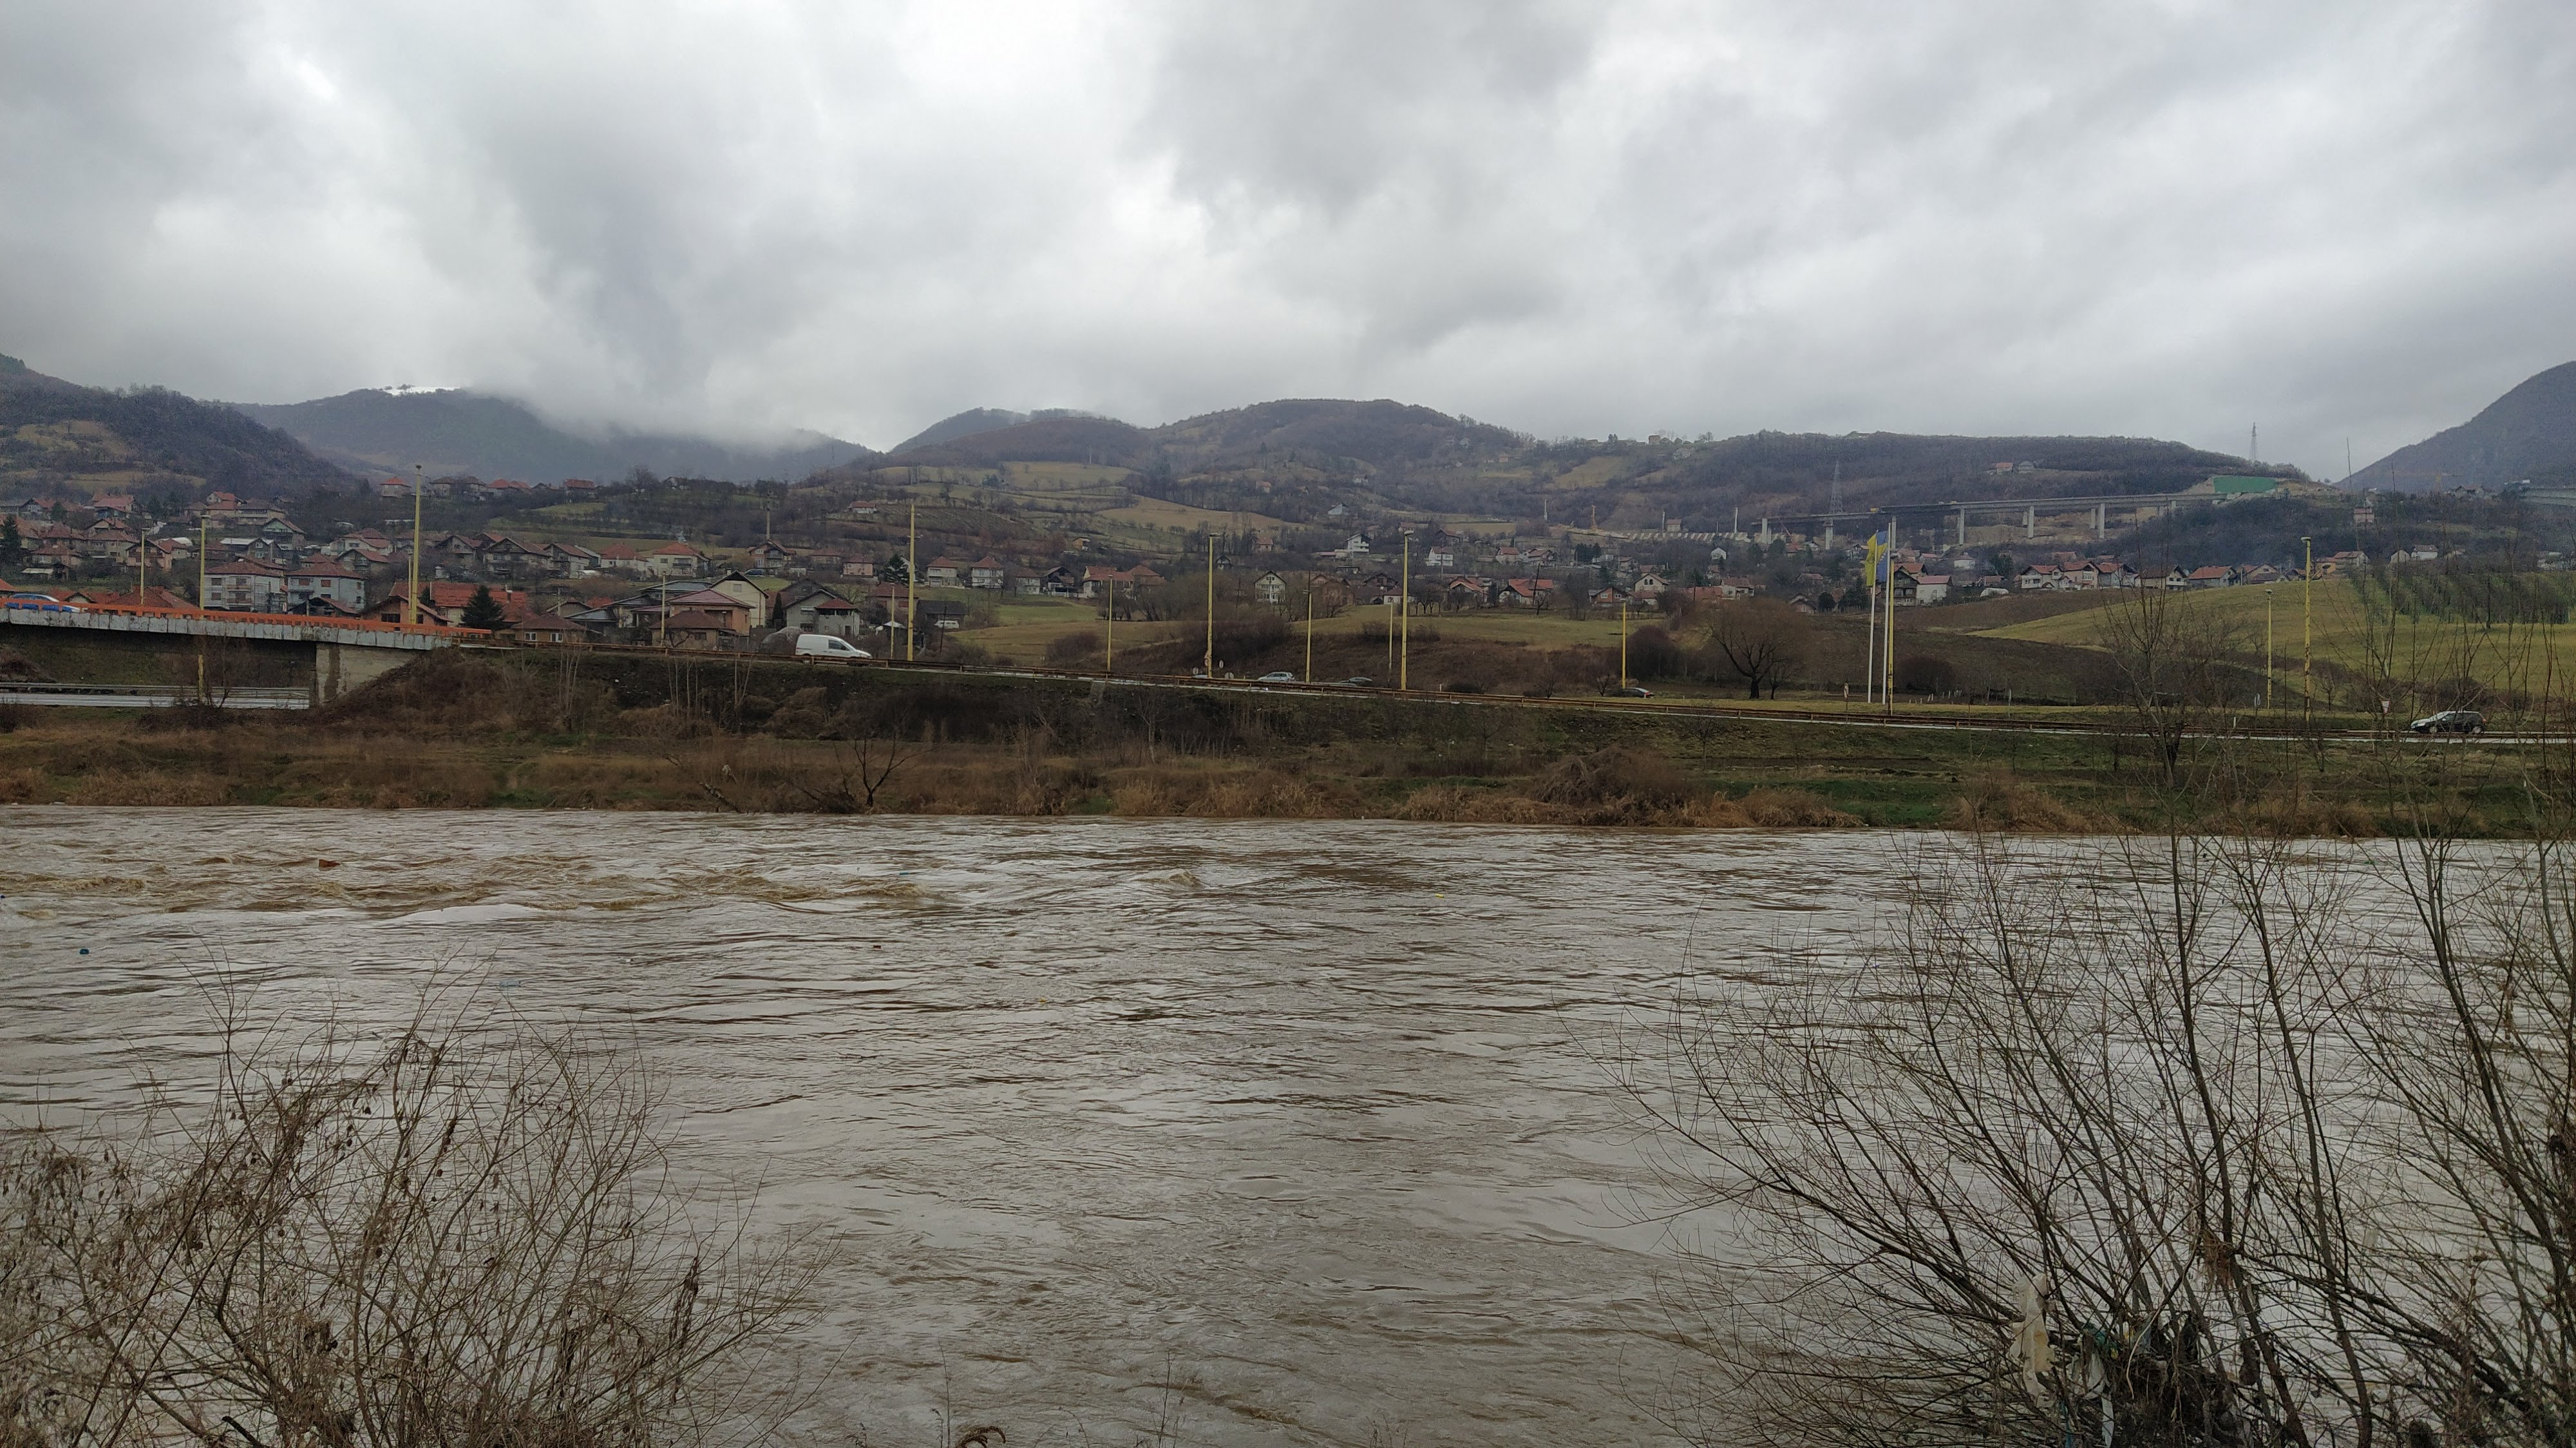Plastic Bottle: (318, 859, 338, 867), (499, 979, 520, 986), (80, 947, 88, 954), (1435, 892, 1444, 897), (874, 944, 881, 949), (899, 871, 909, 874), (2364, 859, 2374, 862)
